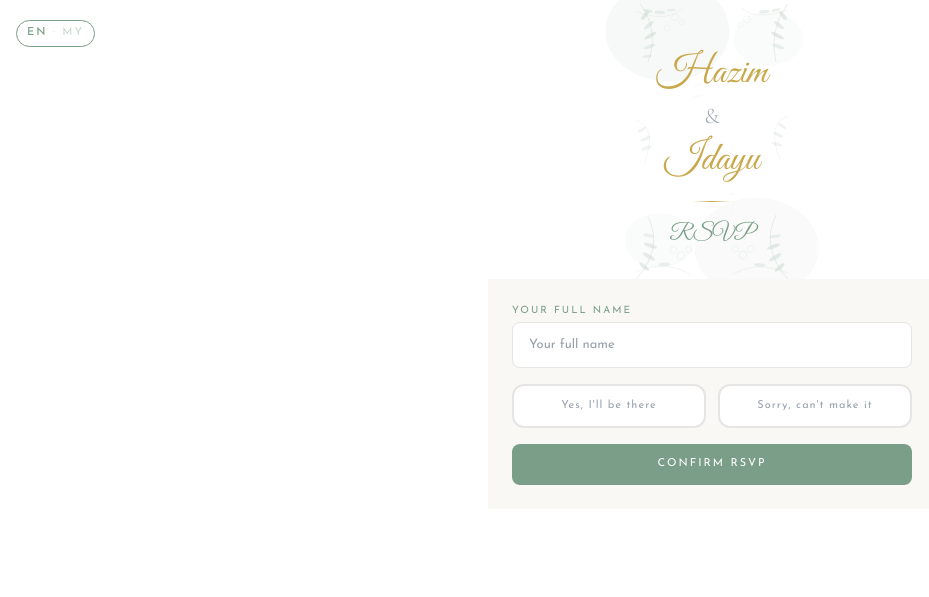
Test: RsvpPage › shows pax input when attending is selected
Click the button "Yes, I'll be there": (609, 406) left=512, top=384, right=706, bottom=428
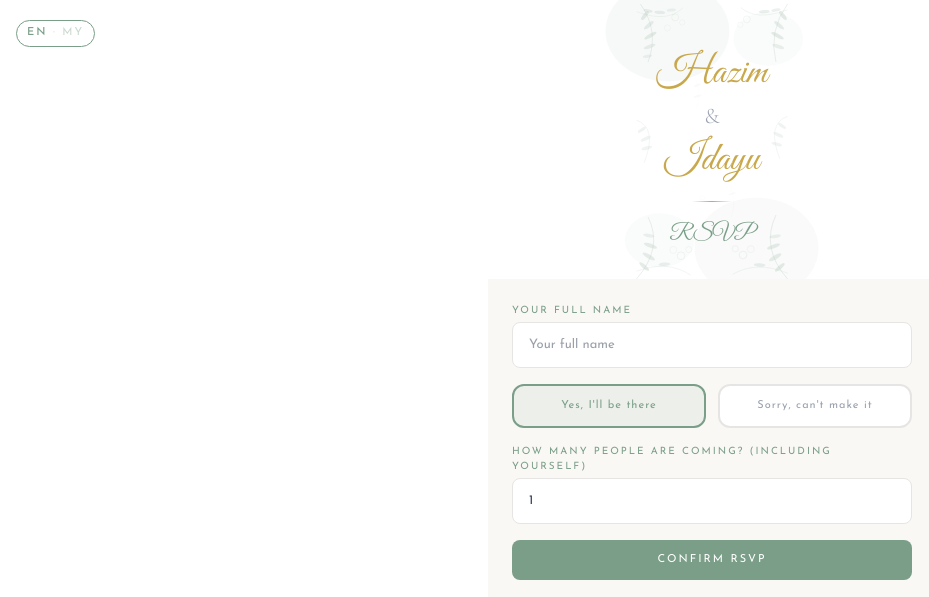
Now the field labelled "How many people are coming? (including yourself)" is shown, box left=512, top=478, right=912, bottom=524
